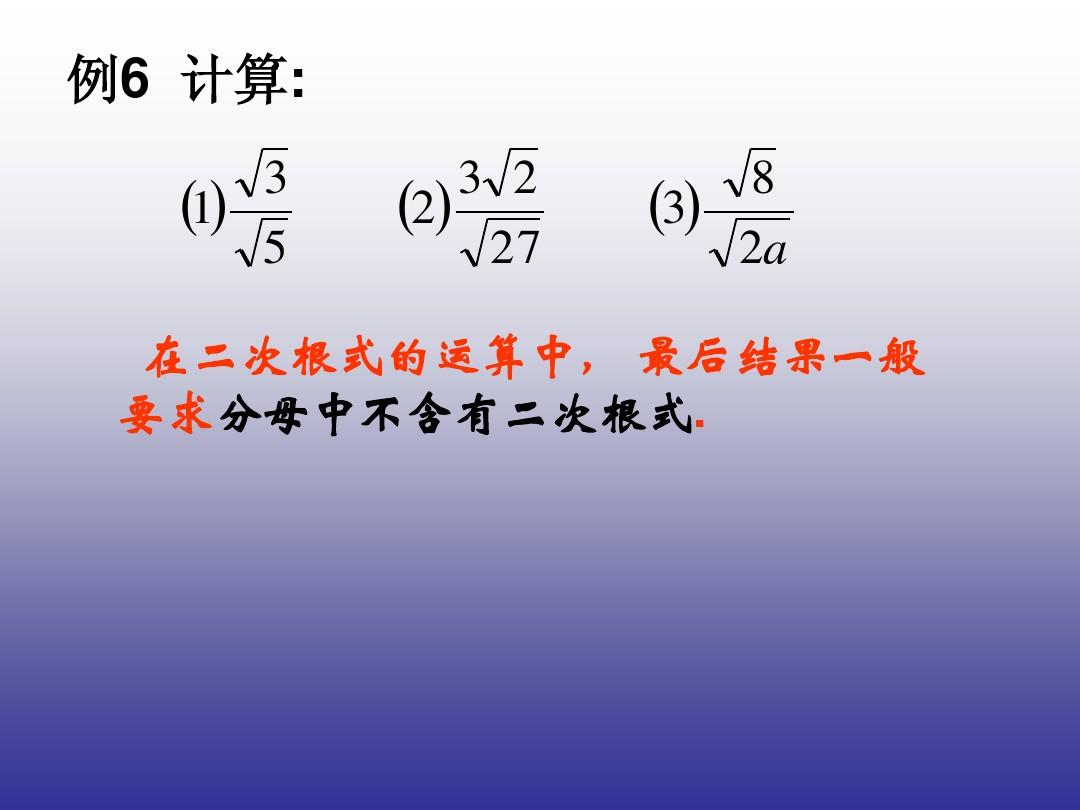division: (453, 204, 553, 222), (701, 205, 802, 222), (224, 203, 297, 219)
sqrt: (456, 215, 552, 271), (715, 215, 798, 273), (718, 142, 789, 202), (233, 141, 293, 202), (237, 211, 294, 273), (487, 143, 539, 200)
